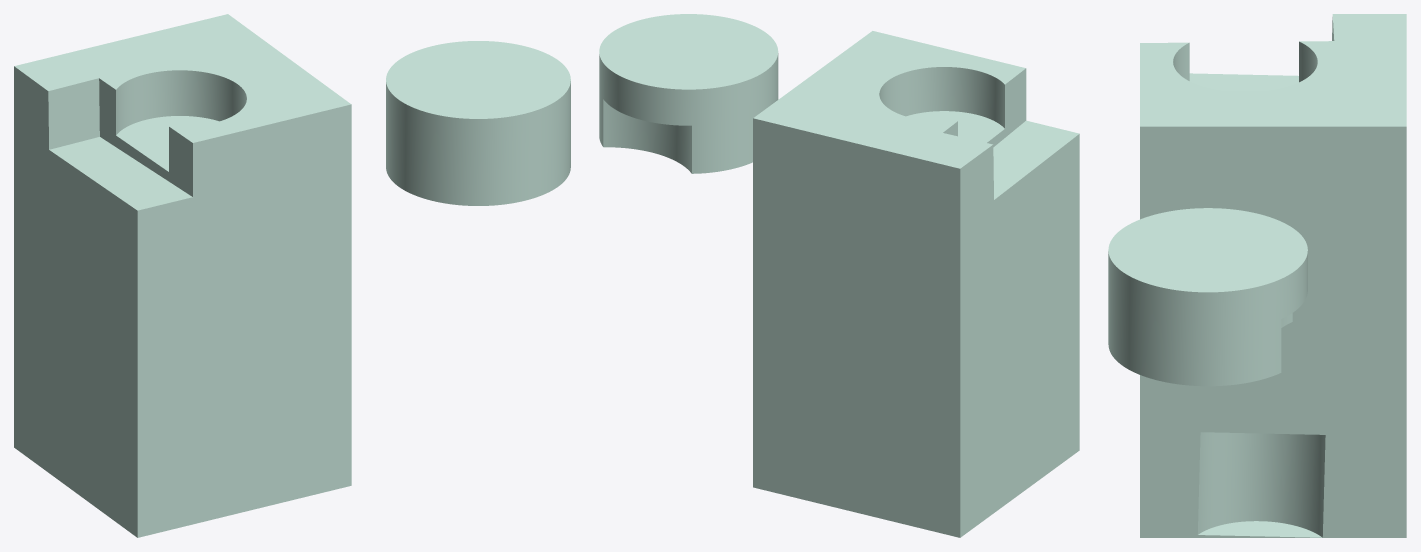
The picture shows the model from 3 angles, left to right: view 1: azimuth 30°, elevation 25°; view 2: azimuth 150°, elevation 25°; view 3: azimuth 270°, elevation 25°; orthographic projection. The views are drawn at different scales.
Visible parts, largest first — view 1: Renderer Node; view 2: Renderer Node; view 3: Renderer Node.
Boxes of the visible parts, box(x1,y1,x2,y2) form: Renderer Node: box(14, 14, 570, 537); Renderer Node: box(599, 14, 1079, 537); Renderer Node: box(1108, 14, 1406, 537).
Size of the model in its own units: 0.8922 by 0.7188 by 0.472.
